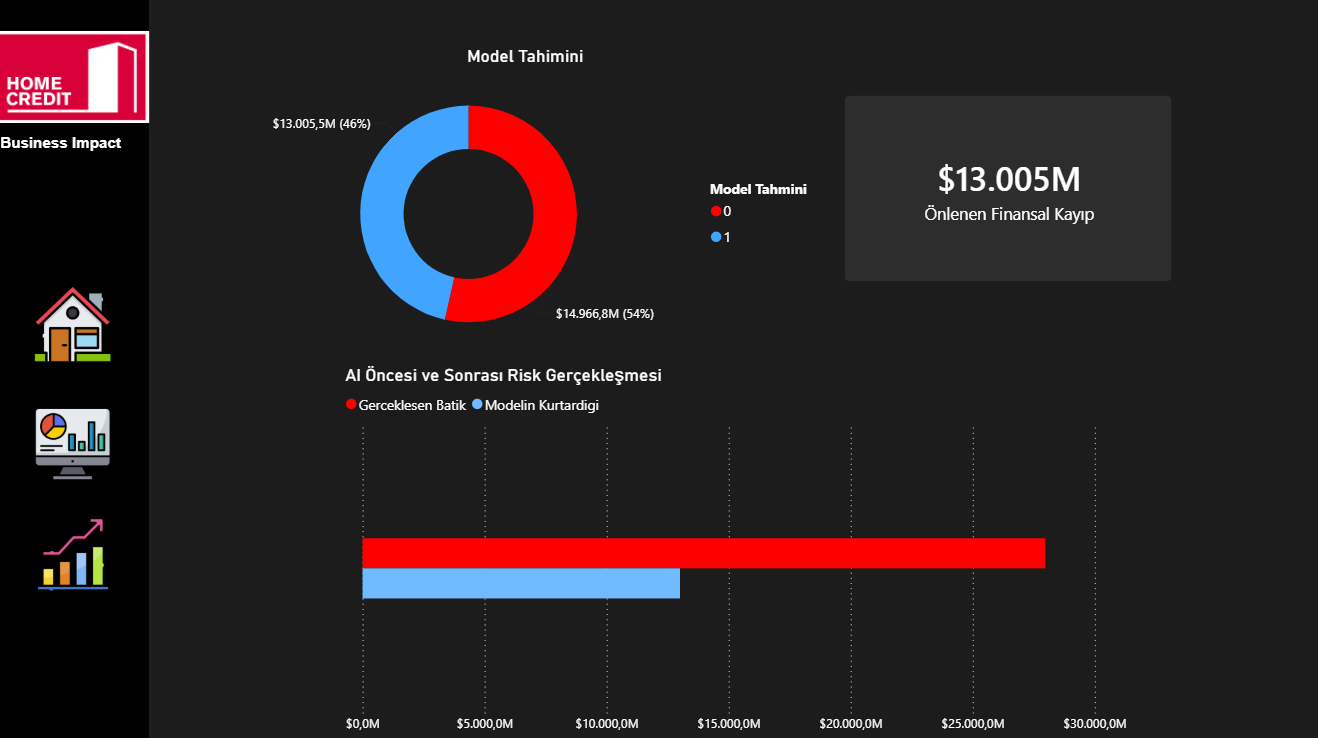

This screenshot's page, from the dashboard's own definition file:
{"tool":"powerbi","page":{"name":"Business Impact","canvas":[1280,720],"ordinal":2},"visuals":[{"type":"shape","box":[0,0,148.6,719.9],"z":0},{"type":"image","box":[36.1,275.6,77.9,80.8],"z":1000},{"type":"image","box":[36.1,360.7,77.9,141.4],"z":2000},{"type":"textbox","box":[0,127,164.5,148.6],"z":3000},{"type":"image","box":[0,0,148.6,154.4],"z":4000},{"type":"image","box":[36.1,502.1,77.9,72.1],"z":4001},{"type":"donutChart","title":"Model Tahimini","fields":{"Category":["powerbi_kredi_risk_verisi.Model_Tahmini"],"Y":["powerbi_kredi_risk_verisi.Gerceklesen Batik"]},"box":[219.3,47.6,584.3,305.9],"z":4002},{"type":"cardVisual","fields":{"Data":["powerbi_kredi_risk_verisi.Modelin Kurtardigi"]},"box":[803.6,77.9,349.1,213.5],"z":4003},{"type":"clusteredBarChart","title":"AI Öncesi ve Sonrası Risk Gerçekleşmesi","fields":{"Y":["powerbi_kredi_risk_verisi.Gerceklesen Batik","powerbi_kredi_risk_verisi.Modelin Kurtardigi"]},"box":[333.3,353.5,764.7,366.5],"z":4004}]}

Visuals, with their boxes on the page's 1280x720 design canvas (x1, y1, x2, y2). These are canvas units, not pixel positions in the 1318x738 screenshot, which may show the page scaled, cropped or inside an application window:
shape: [x1=0, y1=0, x2=149, y2=720]
image: [x1=36, y1=276, x2=114, y2=356]
image: [x1=36, y1=361, x2=114, y2=502]
textbox: [x1=0, y1=127, x2=164, y2=276]
image: [x1=0, y1=0, x2=149, y2=154]
image: [x1=36, y1=502, x2=114, y2=574]
"Model Tahimini" donutChart: [x1=219, y1=48, x2=804, y2=354]
cardVisual - powerbi_kredi_risk_verisi.Modelin Kurtardigi: [x1=804, y1=78, x2=1153, y2=291]
"AI Öncesi ve Sonrası Risk Gerçekleşmesi" clusteredBarChart: [x1=333, y1=354, x2=1098, y2=720]
